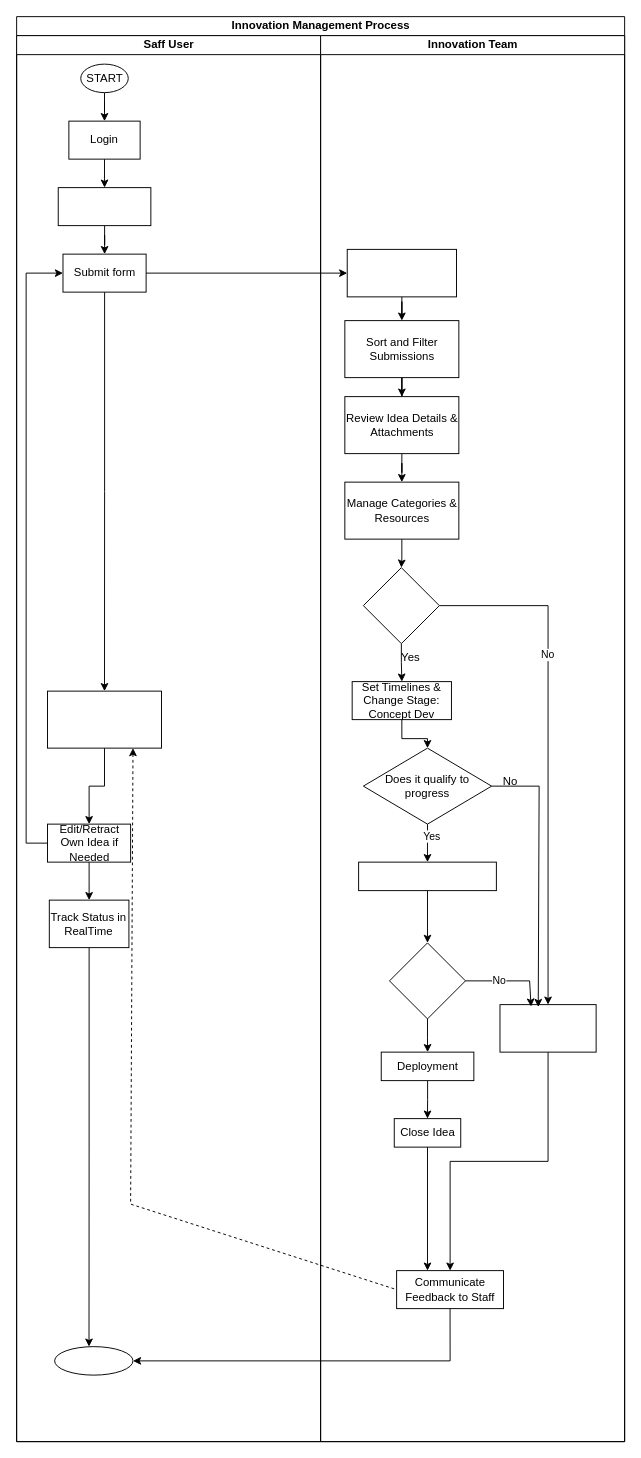
Image size: 641x1458. Some labels were removed from this diagram. Each missing label, with the centre of its shape:
"Does it qualify to progress?" belongs at (x=427, y=980).
"END" belongs at (x=93, y=1360).
"Experimentation/Research" belongs at (x=427, y=876).
"Fill innovation form" belongs at (x=104, y=206).
"Provide Feedback/Decline Idea" belongs at (x=547, y=1028).
"Receive Email/System Notification" belongs at (x=104, y=719).
"Receive Submission Notification" belongs at (x=401, y=272).
"Select & Approve Idea?" belongs at (x=400, y=605).
